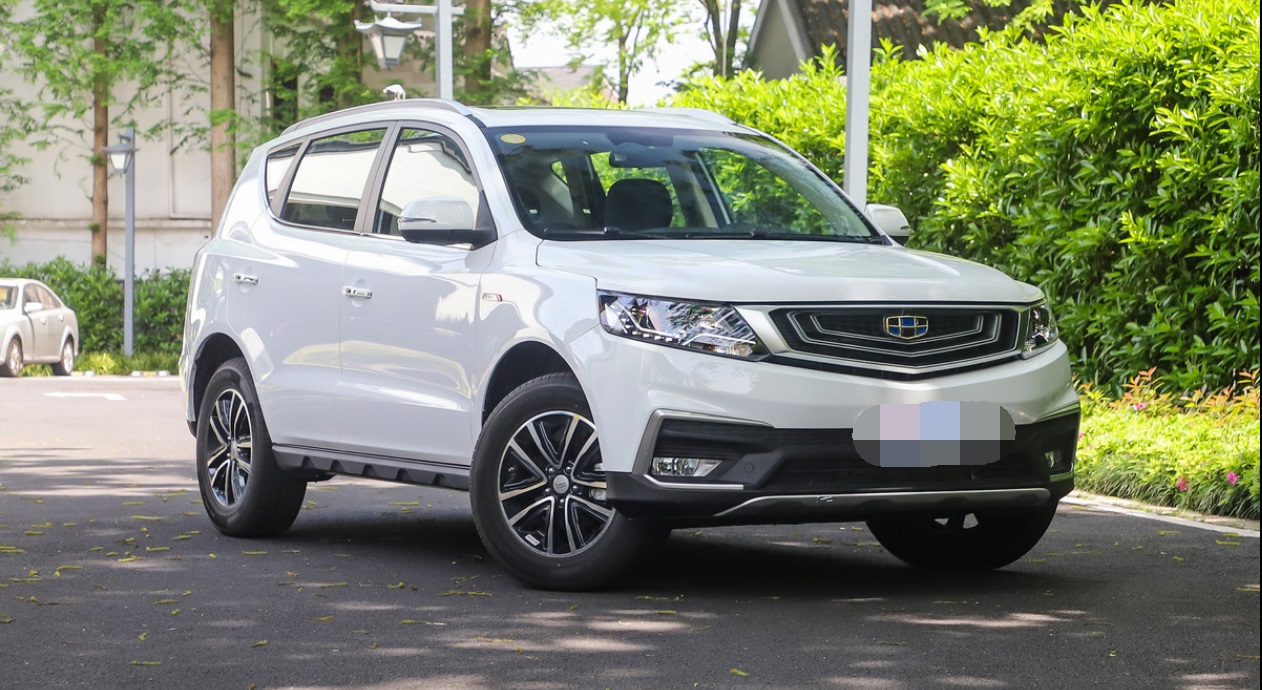SUV: (180, 91, 1088, 591)
